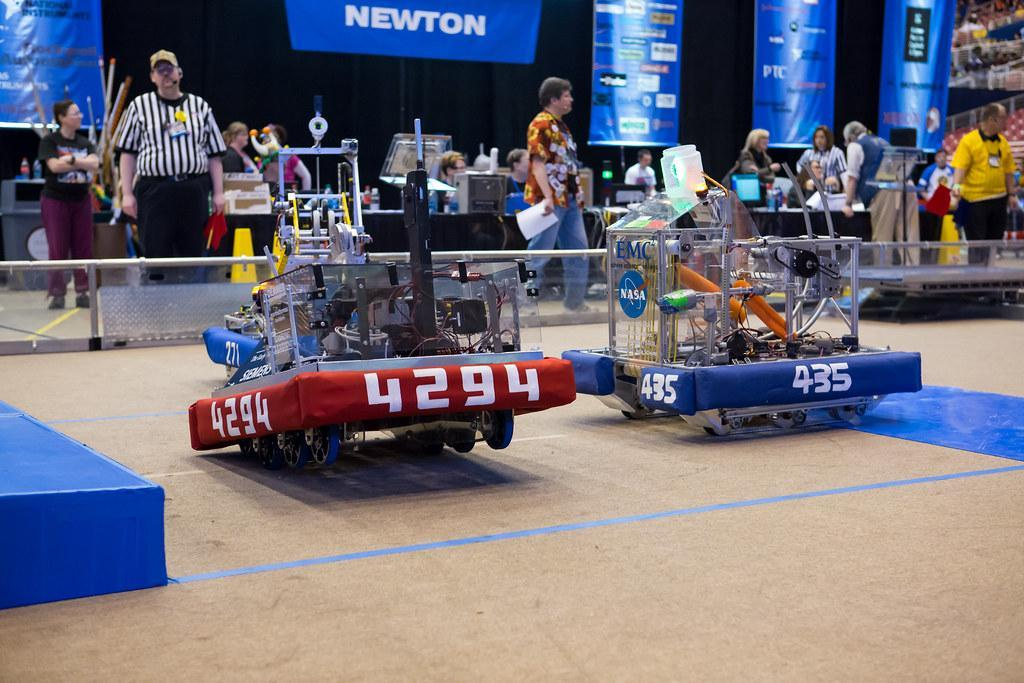robot: (187, 96, 579, 483), (564, 139, 932, 439), (202, 104, 490, 390)
